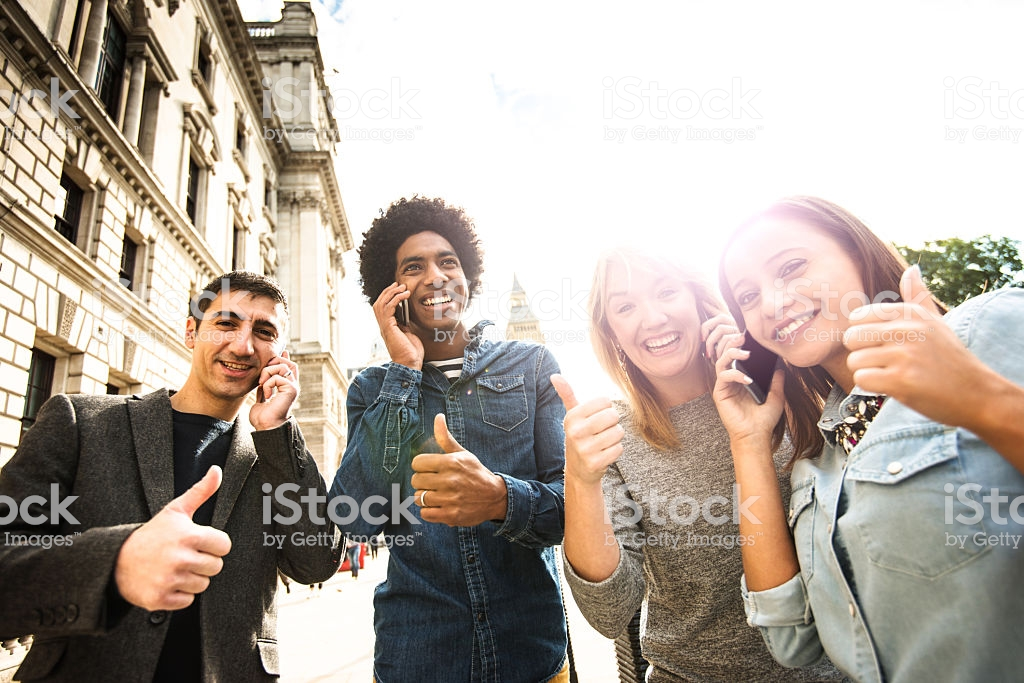thumbsup: (137, 462, 235, 615), (410, 411, 487, 532), (547, 371, 626, 476)
